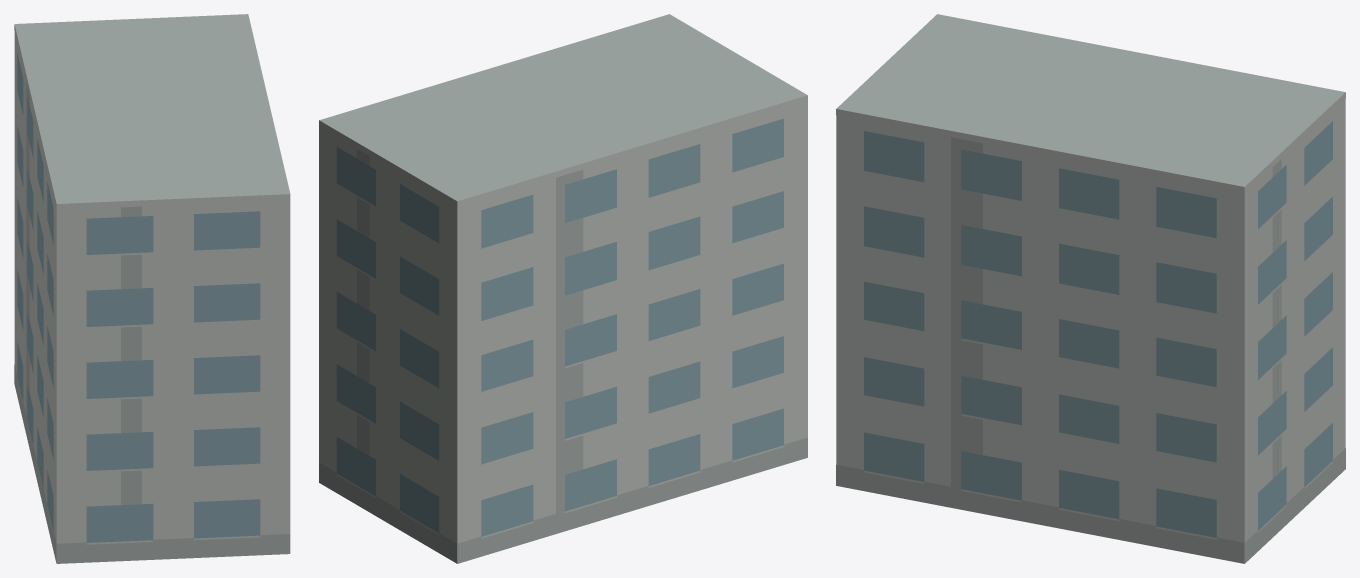
The model's file is survey-upis-32551354.glb.
3 renders of one model, left to right at view 1: azimuth 30°, elevation 25°; view 2: azimuth 150°, elevation 25°; view 3: azimuth 270°, elevation 25°, orthographic. The views are drawn at different scales.
Visible parts, largest first — view 1: survey-upis-32551354.tmp; view 2: survey-upis-32551354.tmp; view 3: survey-upis-32551354.tmp.
Part boxes in pixels (<box>): survey-upis-32551354.tmp: <box>14,14,290,563</box>; survey-upis-32551354.tmp: <box>319,14,807,563</box>; survey-upis-32551354.tmp: <box>836,14,1345,563</box>.
Bounding box in the file's own units: 13.98 × 14.2 × 17.41.
